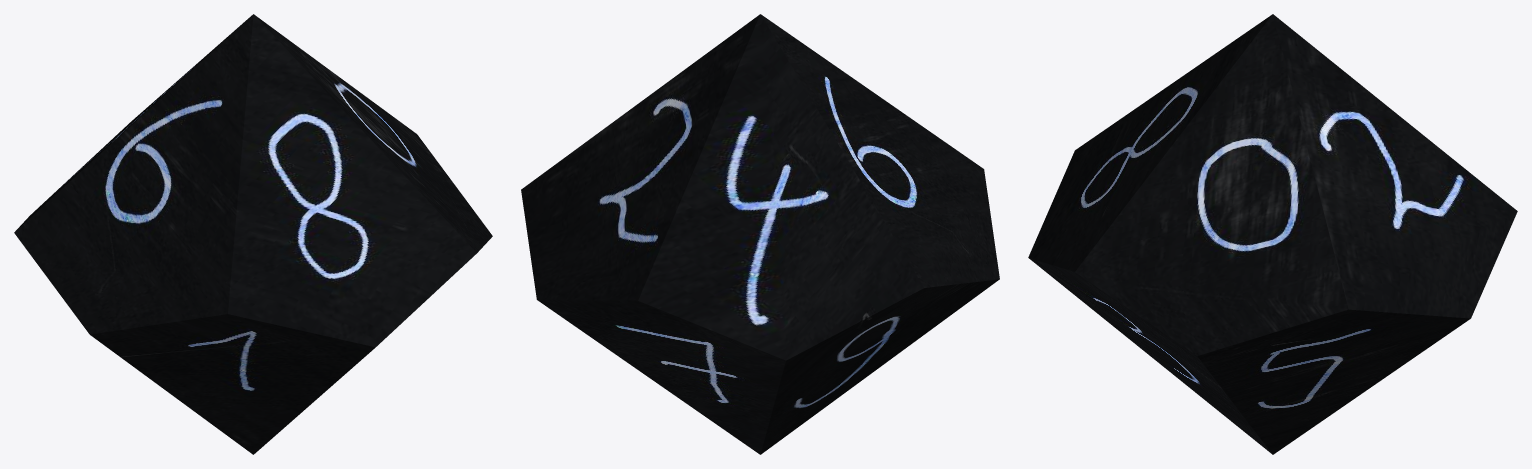
The model's file is tensided_dice.fbx.
3 views of the same model, side by side, from view 1: azimuth 30°, elevation 25°; view 2: azimuth 150°, elevation 25°; view 3: azimuth 270°, elevation 25° (orthographic).
Parts seen in each view (by area): view 1: Cone; view 2: Cone; view 3: Cone.
Part boxes in pixels (x1,y1,x2,y2): Cone: (14,14,492,454); Cone: (521,14,999,454); Cone: (1028,14,1517,454).
Bounding box in the file's own units: 191 × 200 × 201.
